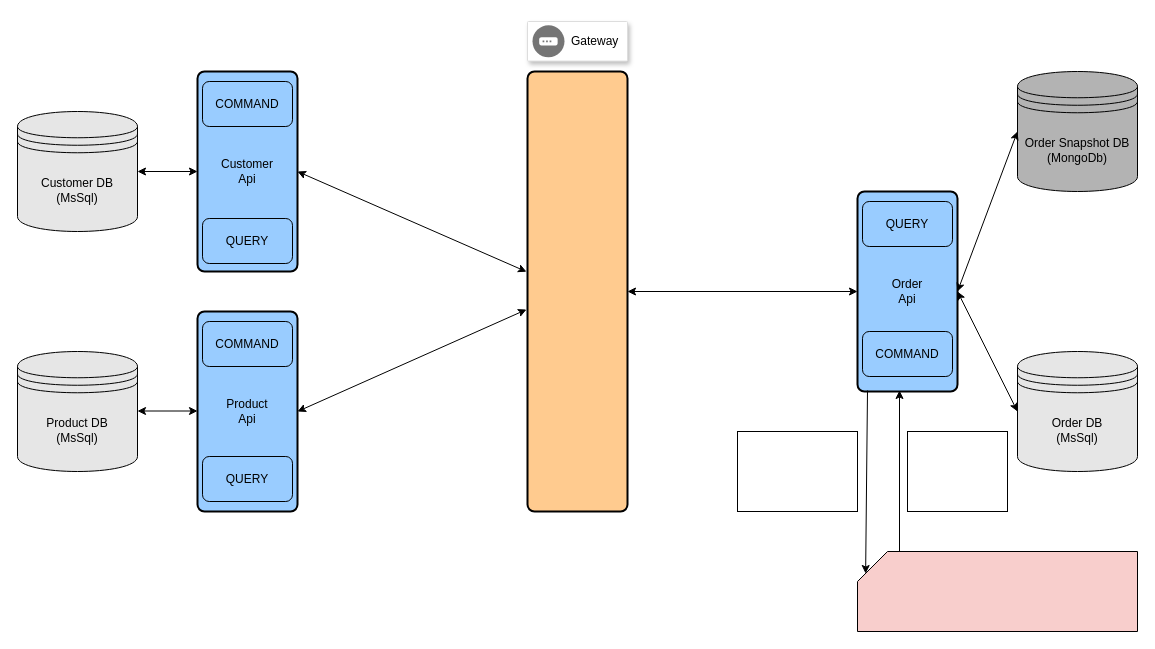
The diagram is 1155 pixels wide and 649 high, and some of its shapes have lost their labels. The centre of each missing label's shape, as x and y in pixels:
Handle Order Created Event and write denormalize data to MongoDb: (957,471)
Ocelot Api Gateway: (577,291)
Publish Order Created Event: (797,471)
Rabbit MQ: (997,591)
